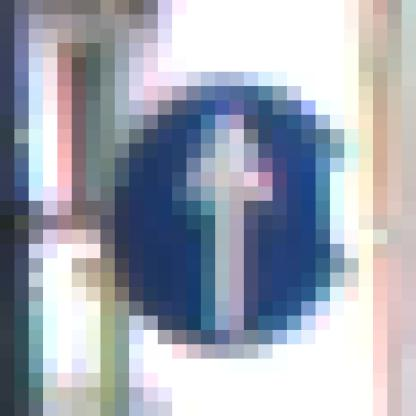AheadOnly: (87, 73, 345, 345)
